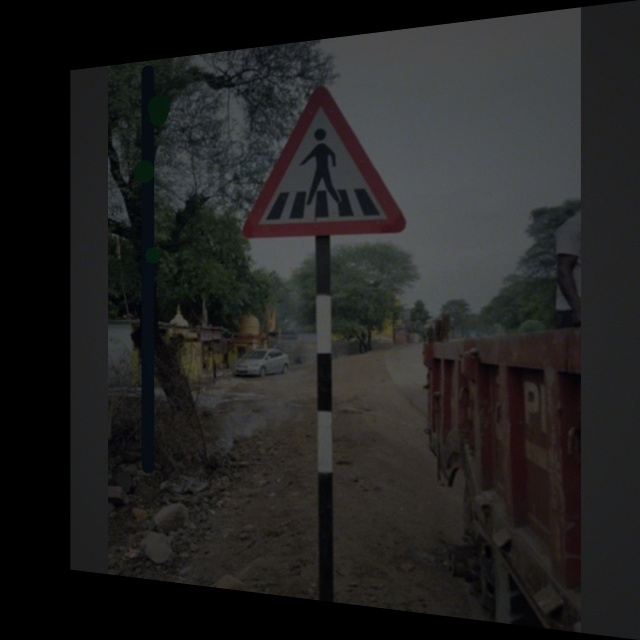Pedestrian_Crossing: (244, 79, 415, 242)
